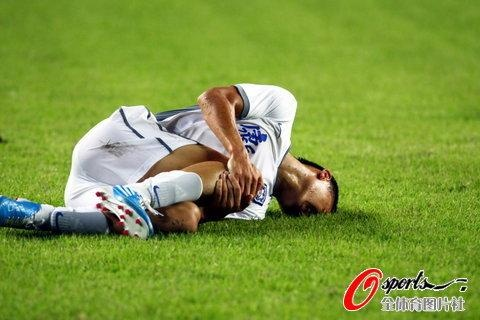falling: (0, 73, 342, 248)
